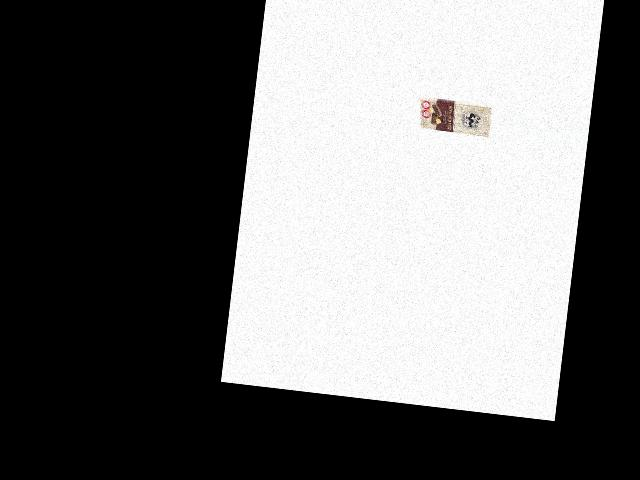chocolate: (415, 90, 493, 138)
